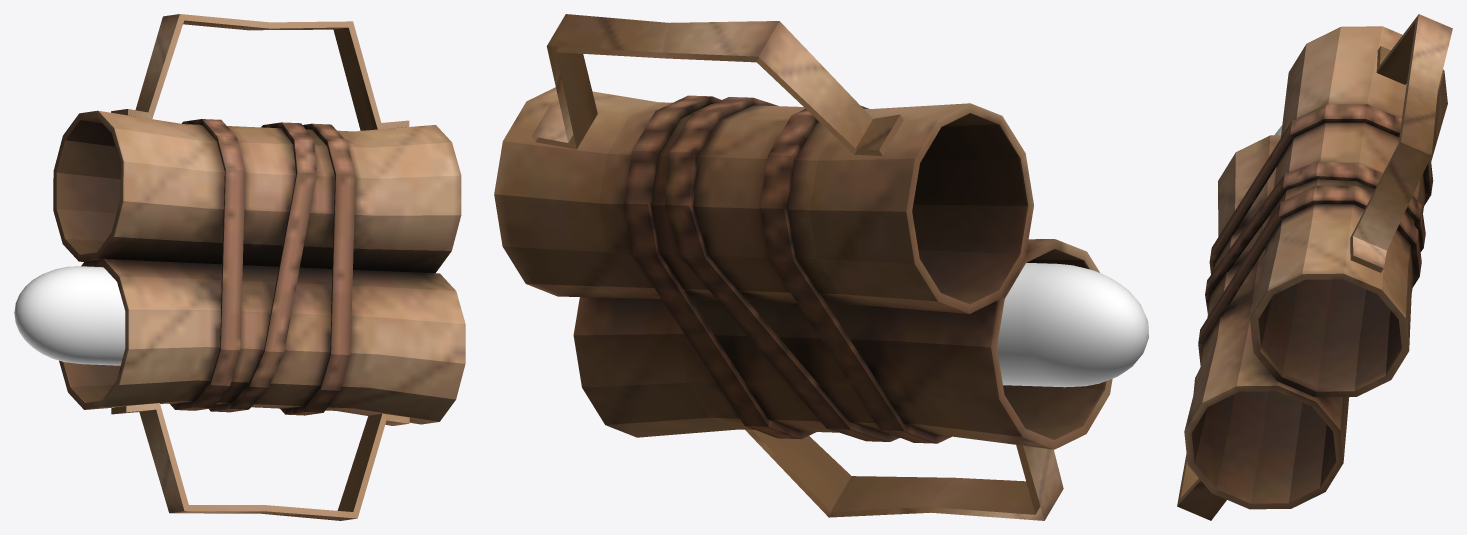
File: CardboardBinocularsAnchor.fbx
3 renders of one model, left to right at view 1: azimuth 30°, elevation 25°; view 2: azimuth 150°, elevation 25°; view 3: azimuth 270°, elevation 25°, orthographic. The views are drawn at different scales.
Visible parts, largest first — view 1: LMAFB_, CardboardBinocularsInteractionPoint; view 2: LMAFB_, CardboardBinocularsInteractionPoint; view 3: LMAFB_.
Part boxes in pixels (x1,y1,x2,y2): LMAFB_: [53, 14, 465, 520]; CardboardBinocularsInteractionPoint: [14, 266, 125, 365]; LMAFB_: [494, 14, 1112, 520]; CardboardBinocularsInteractionPoint: [997, 263, 1148, 387]; LMAFB_: [1177, 14, 1452, 520].
Bounding box in the file's own units: 26.75 × 26.46 × 13.94.
